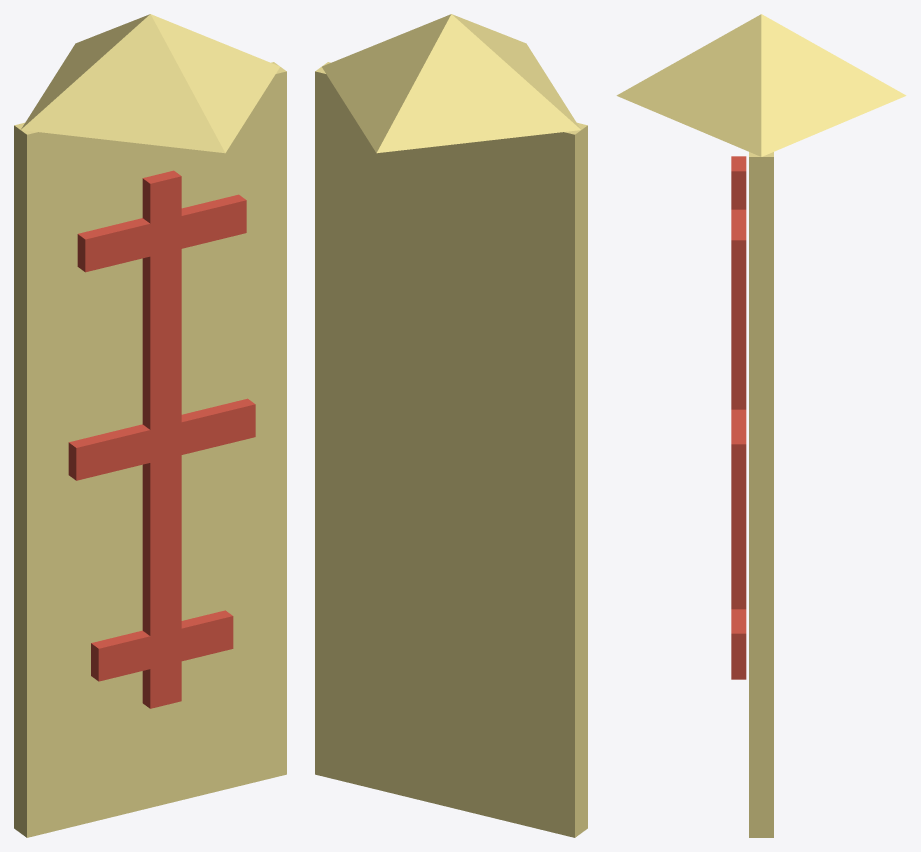
Rendered from jiangshi_talisman.glb.
3 views of the same model, side by side, from view 1: azimuth 30°, elevation 25°; view 2: azimuth 150°, elevation 25°; view 3: azimuth 270°, elevation 25° (orthographic). The views are drawn at different scales.
Visible parts, largest first — view 1: jiangshi_talisman; view 2: jiangshi_talisman; view 3: jiangshi_talisman.
Boxes of the visible parts, left/top/right/bottom form: jiangshi_talisman: left=14, top=14, right=286, bottom=837; jiangshi_talisman: left=315, top=14, right=587, bottom=837; jiangshi_talisman: left=616, top=14, right=906, bottom=837.
Size of the model in its own units: 0.1276 by 0.3696 by 0.1276.
